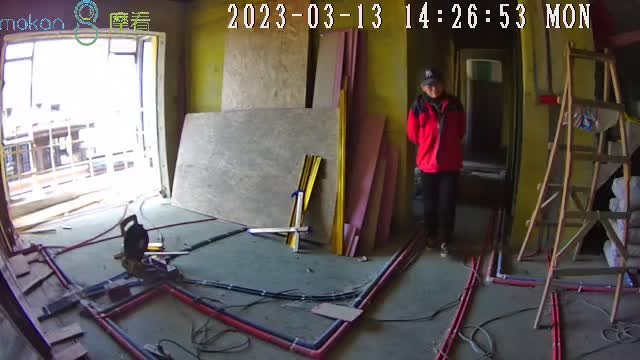people: (407, 68, 467, 255)
window: (3, 38, 163, 228)
